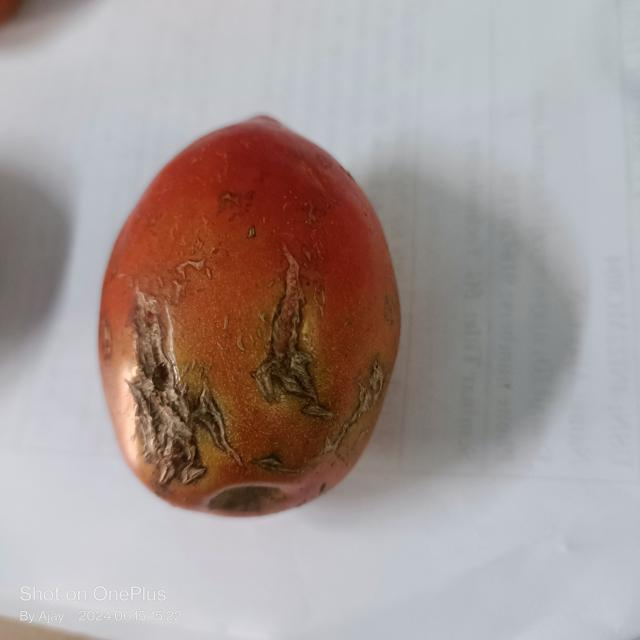tomato_cracking: (126, 297, 245, 494), (247, 234, 336, 427)
